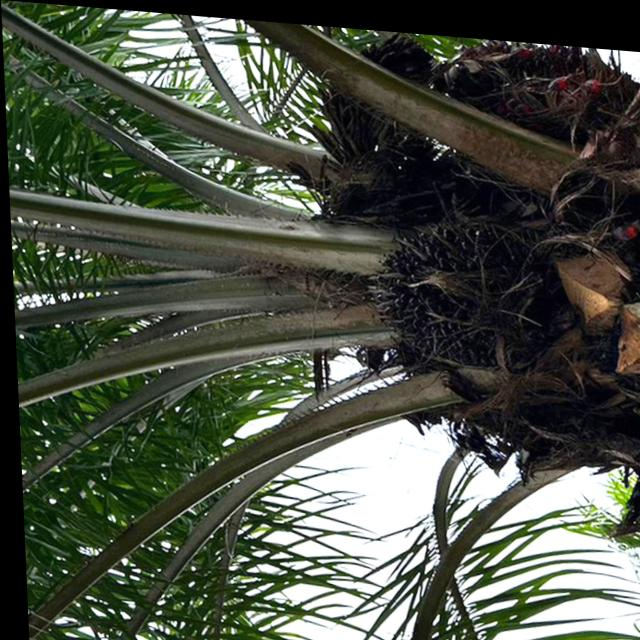almost: (350, 197, 550, 372)
